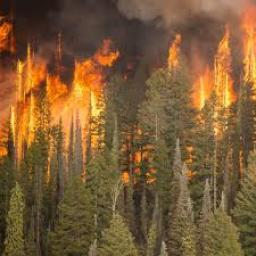Heavy smoke: (3, 1, 256, 68)
Large fire: (1, 17, 126, 184), (155, 21, 256, 154)
